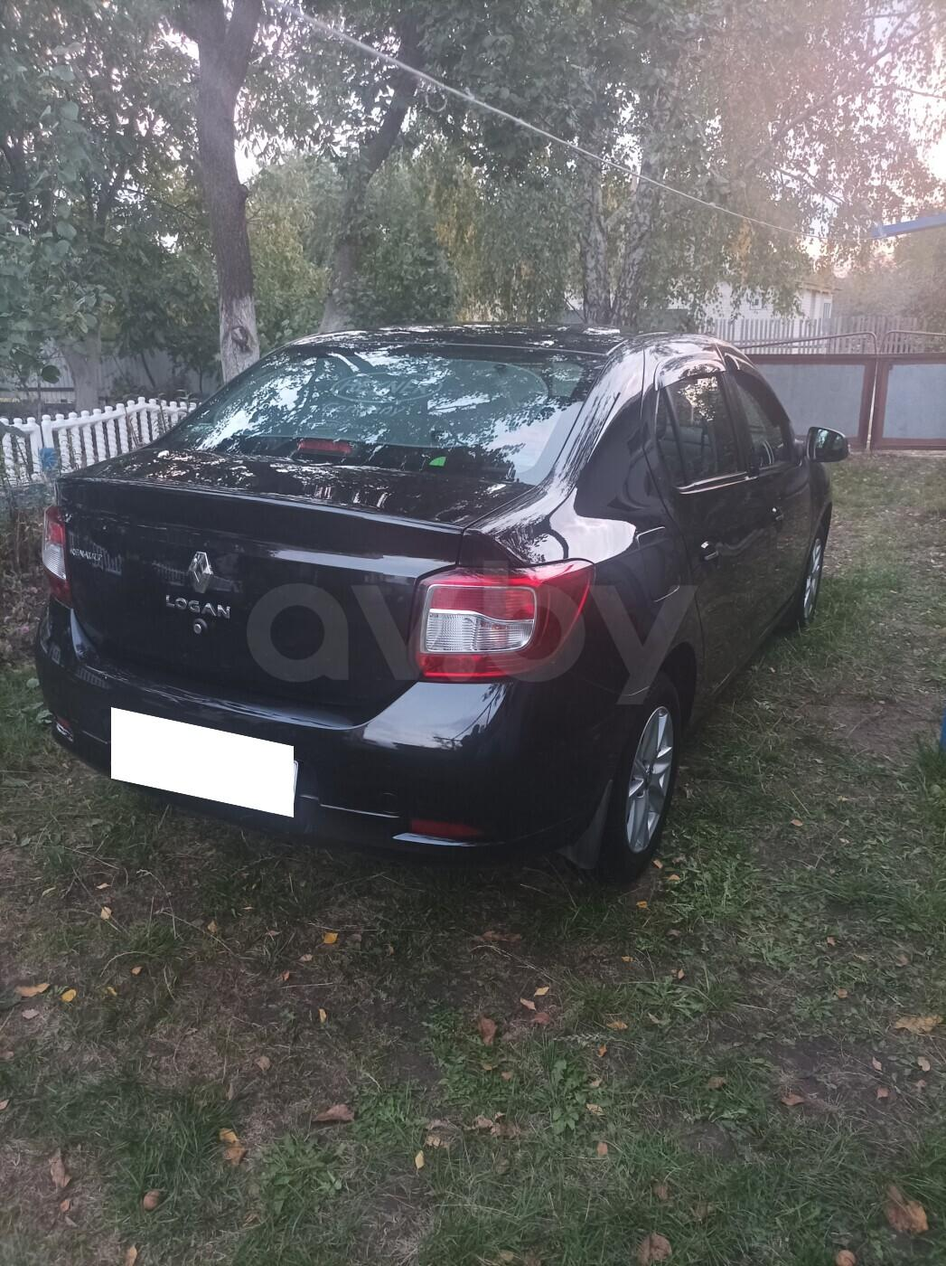Logan_2018: (31, 318, 851, 883)
